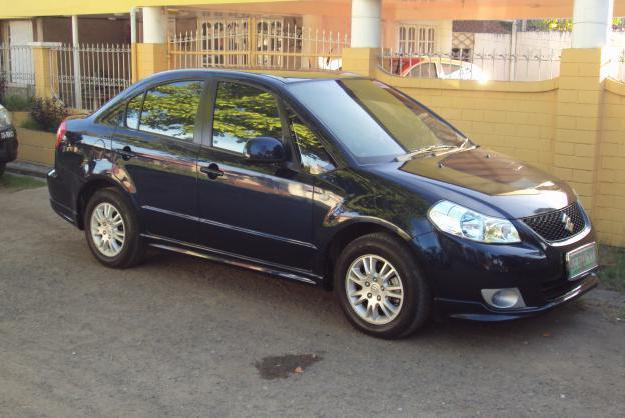Car: (38, 60, 606, 352)
